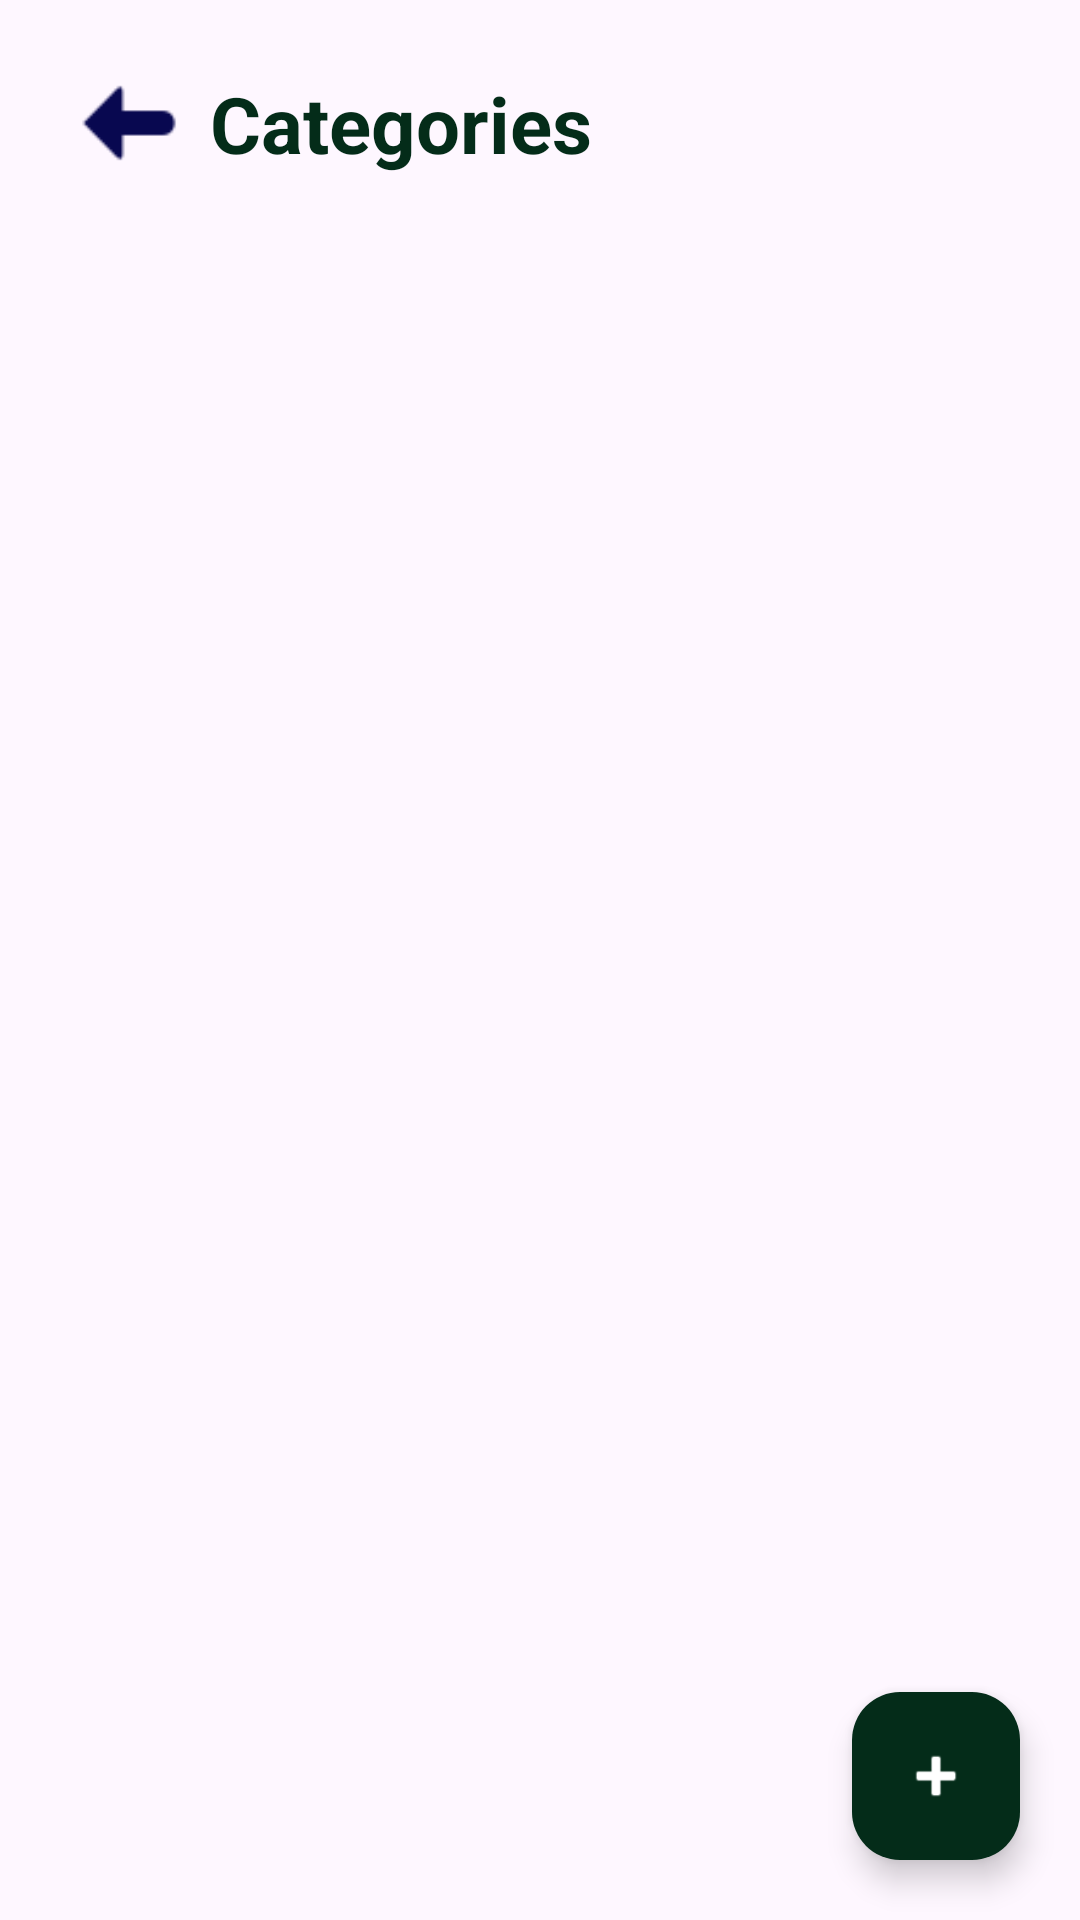

Named icons in this screenshot (1080*1920) and their bounding boxes, [left=x1, top=y1, right=x2, bottom=y2]:
Add Category: [left=852, top=1692, right=1020, bottom=1860]
arrow: [left=82, top=86, right=176, bottom=160]
